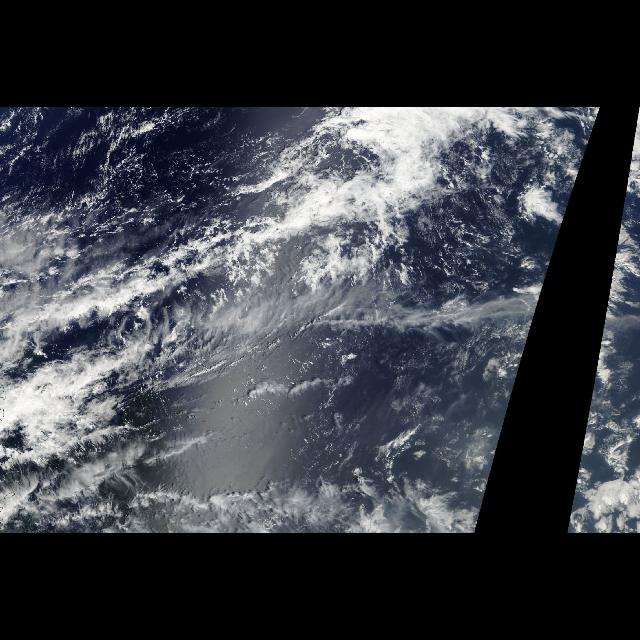Fish: (0, 175, 504, 338)
